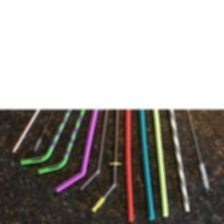drinking_straw: (52, 109, 100, 194), (161, 109, 193, 214), (120, 108, 138, 224), (8, 108, 42, 156)
